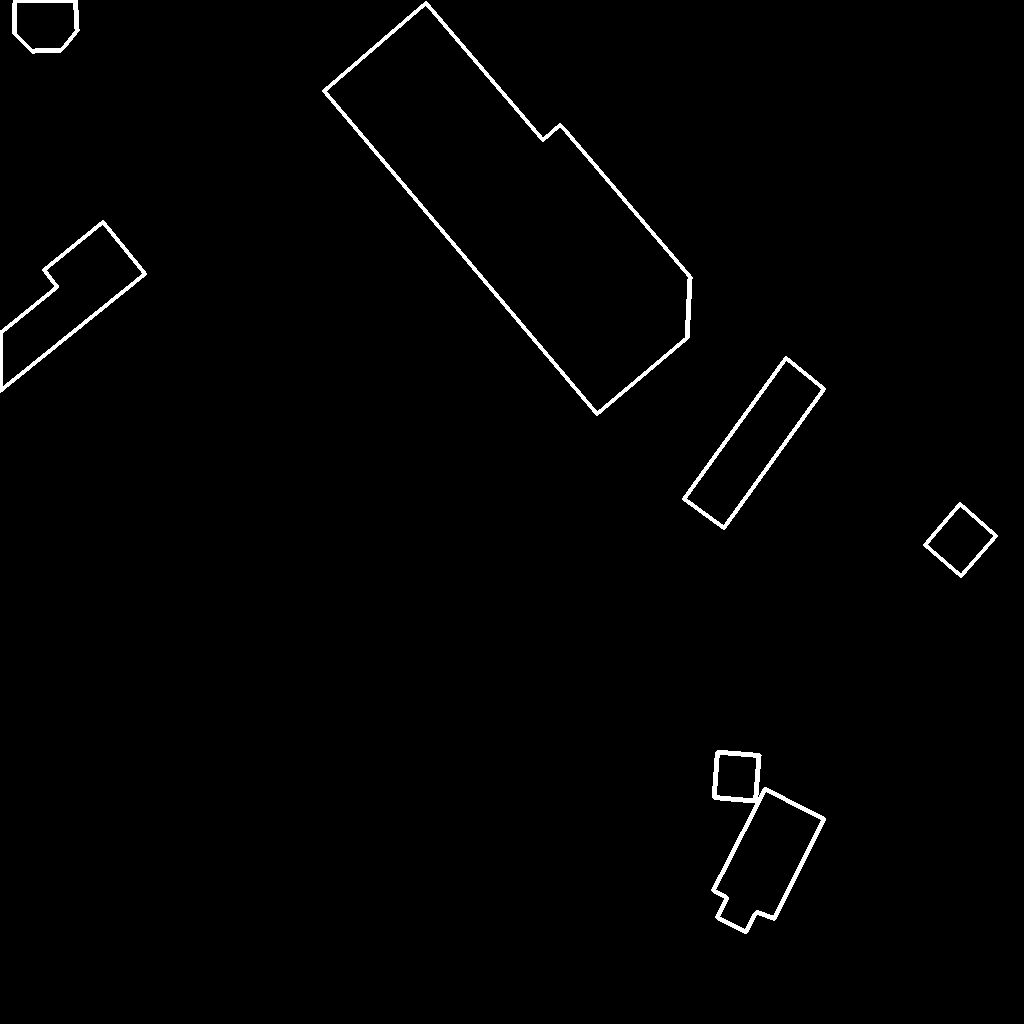building: (324, 3, 691, 415), (0, 222, 146, 392), (684, 358, 825, 529), (713, 789, 825, 933), (925, 504, 997, 577), (13, 0, 78, 52), (714, 752, 760, 802)
